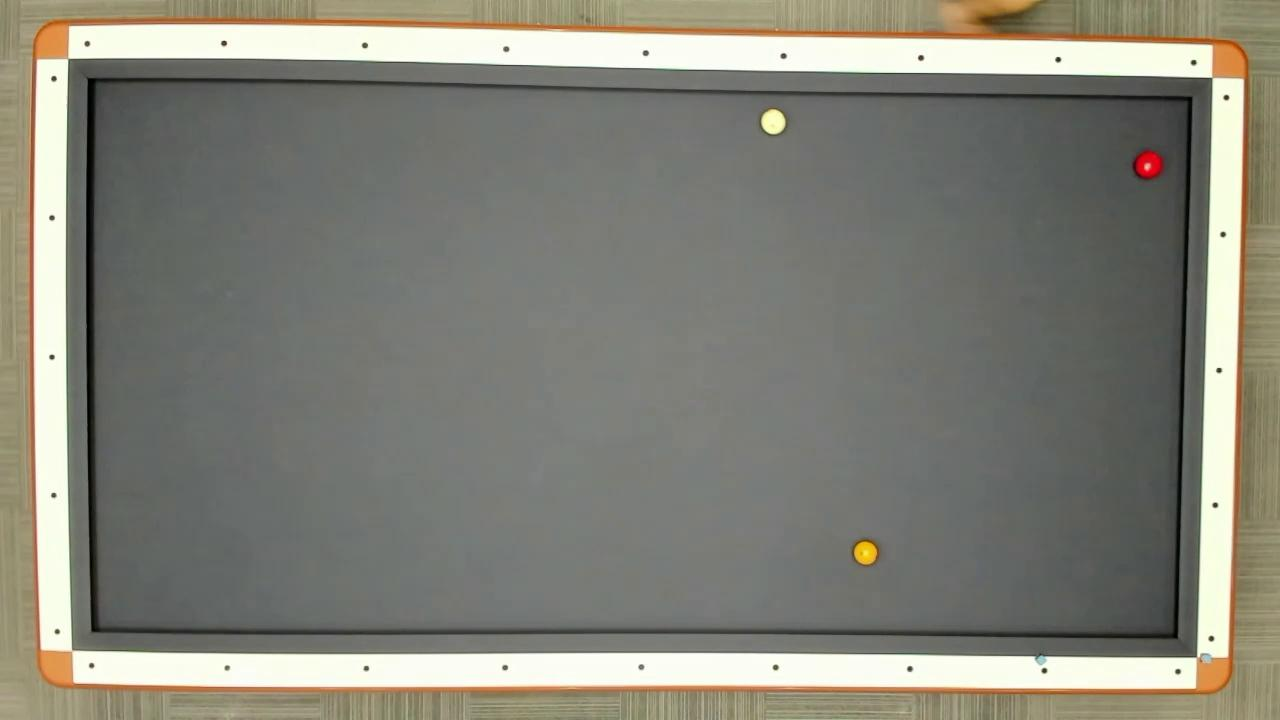Red: (1132, 147, 1166, 182)
White: (760, 106, 789, 138)
Yellow: (851, 538, 880, 569)
